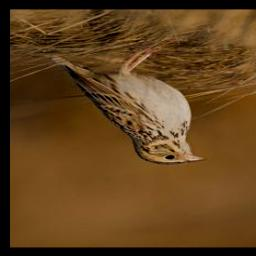Sparrow: (48, 47, 208, 166)
